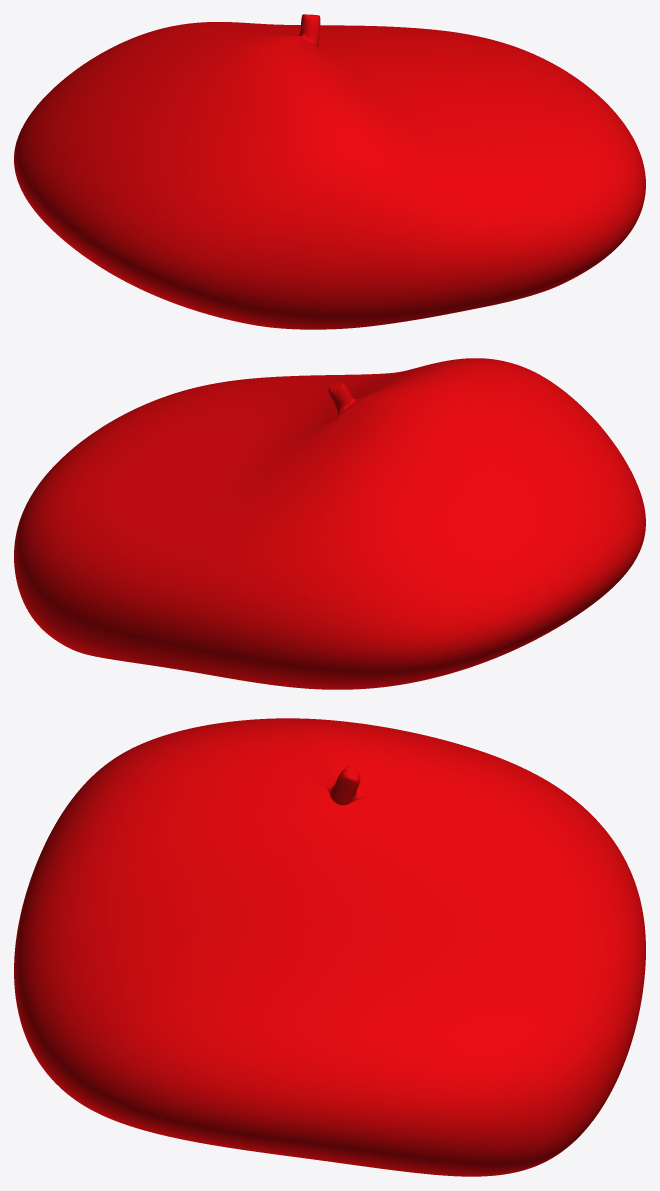
Rendered from French.glb.
The picture shows the model from 3 angles, top to bottom: view 1: azimuth 30°, elevation 25°; view 2: azimuth 150°, elevation 25°; view 3: azimuth 270°, elevation 25°; orthographic projection. The views are drawn at different scales.
Visible parts, largest first — view 1: boina; view 2: boina; view 3: boina.
Part boxes in pixels (x1,y1,x2,y2): boina: (14, 14, 645, 329); boina: (14, 358, 645, 689); boina: (14, 718, 645, 1176).
Bounding box in the file's own units: 65.26 × 28.18 × 57.09.
